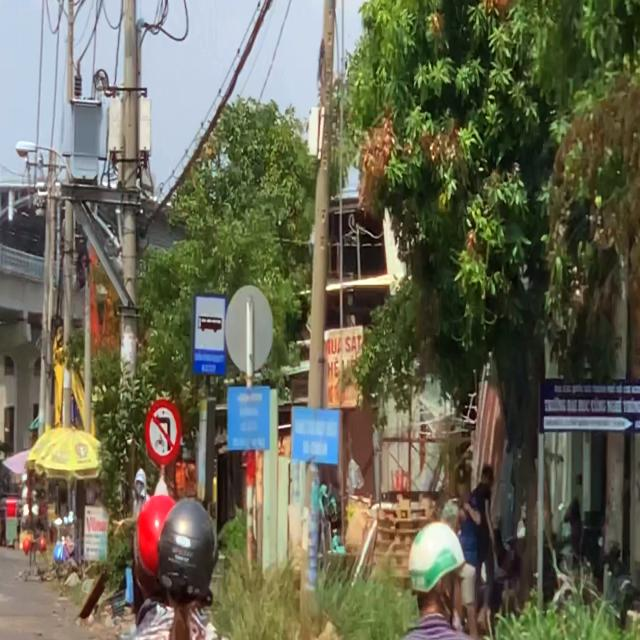Ben xe buyt: (190, 288, 228, 378)
Cam re trai: (144, 396, 182, 469)
